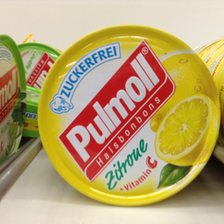candy: (37, 25, 223, 207)
